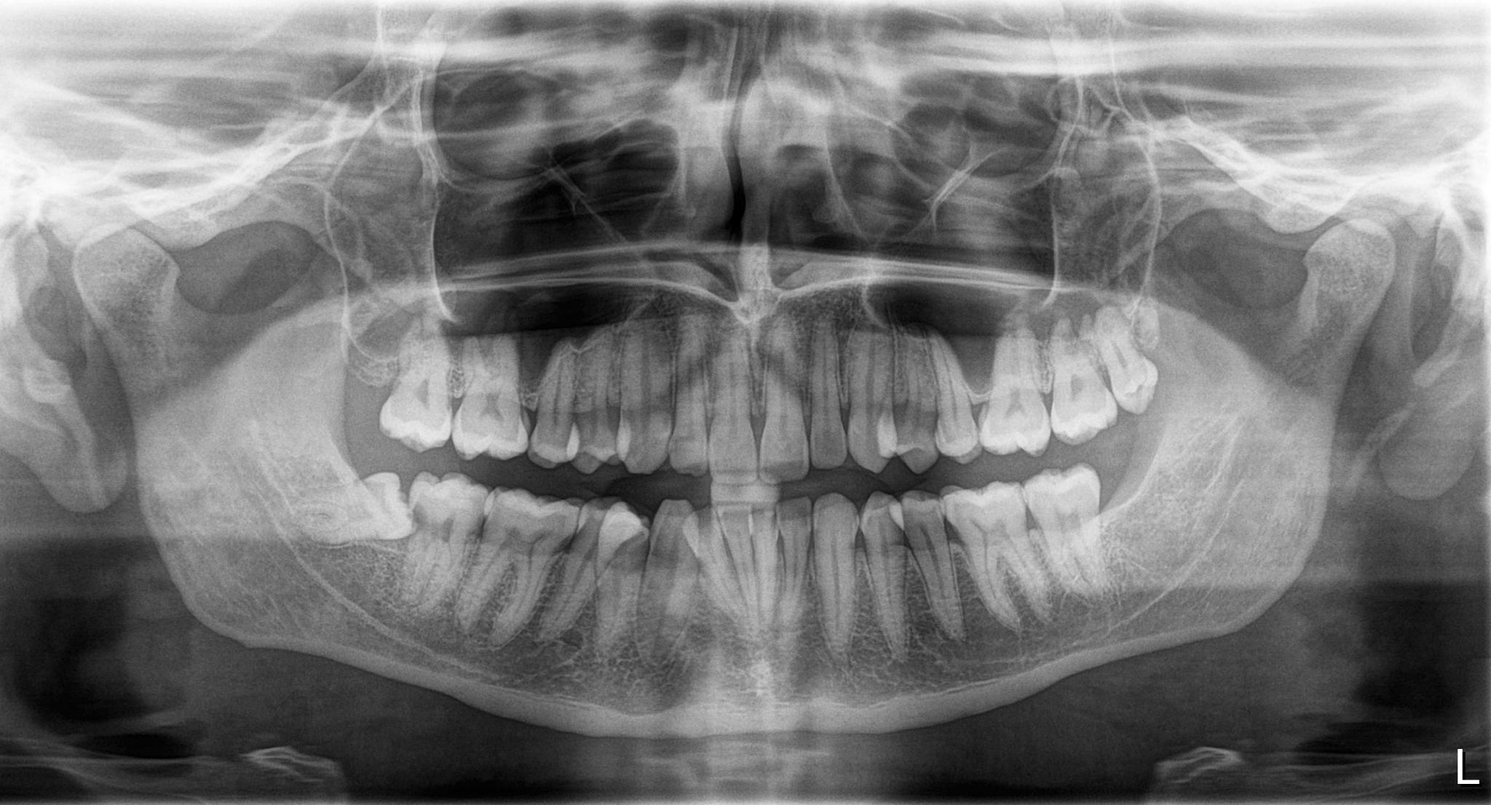Impacted Third Molar: (295, 482, 416, 545)
Missing Tooth: (333, 337, 387, 440), (1103, 457, 1144, 530)
